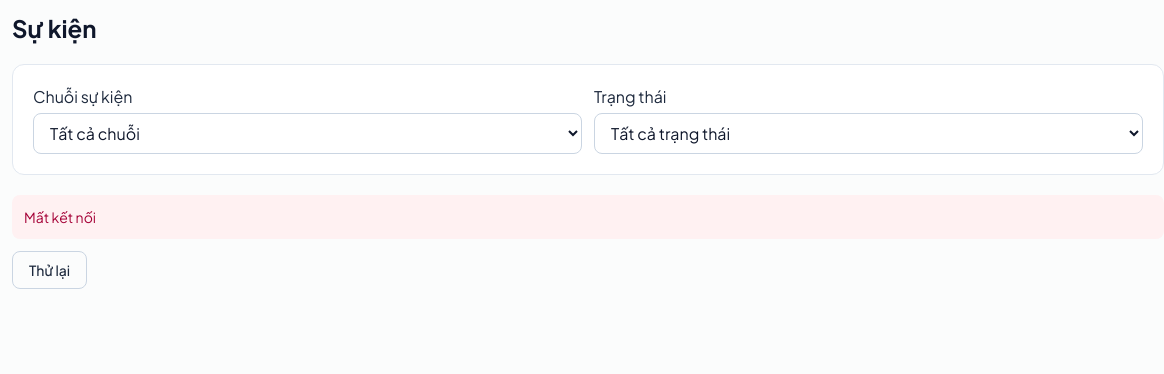
renders canonical API pages, retries loading, and sends series and status filters together
Later steps or results of the test are not shown.
Click the button "Thử lại" at (50, 270), box x1=12 y1=251 x2=87 y2=289
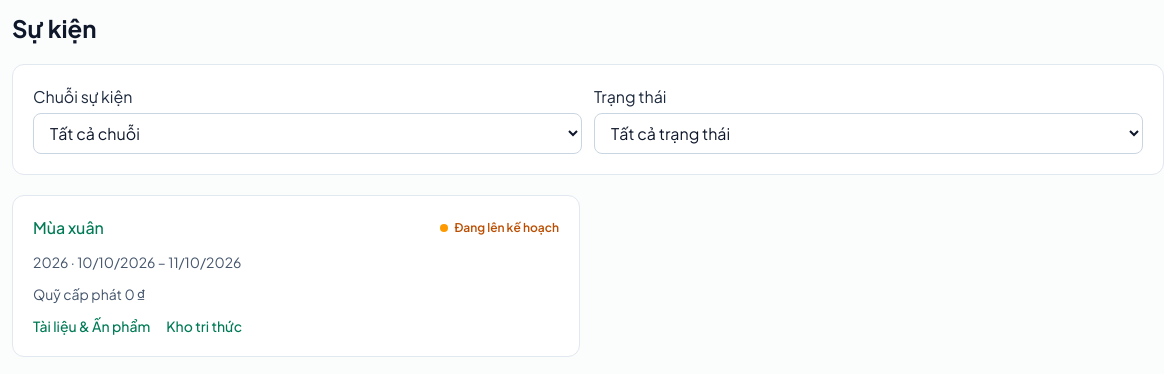
Expected: the link "Mùa xuân" is shown, x1=33 y1=216 x2=104 y2=240
